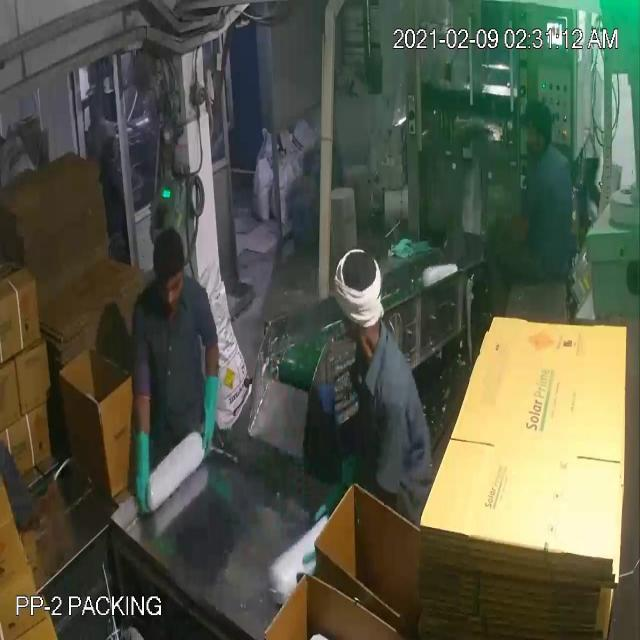Gloves: (40, 110, 203, 506)
